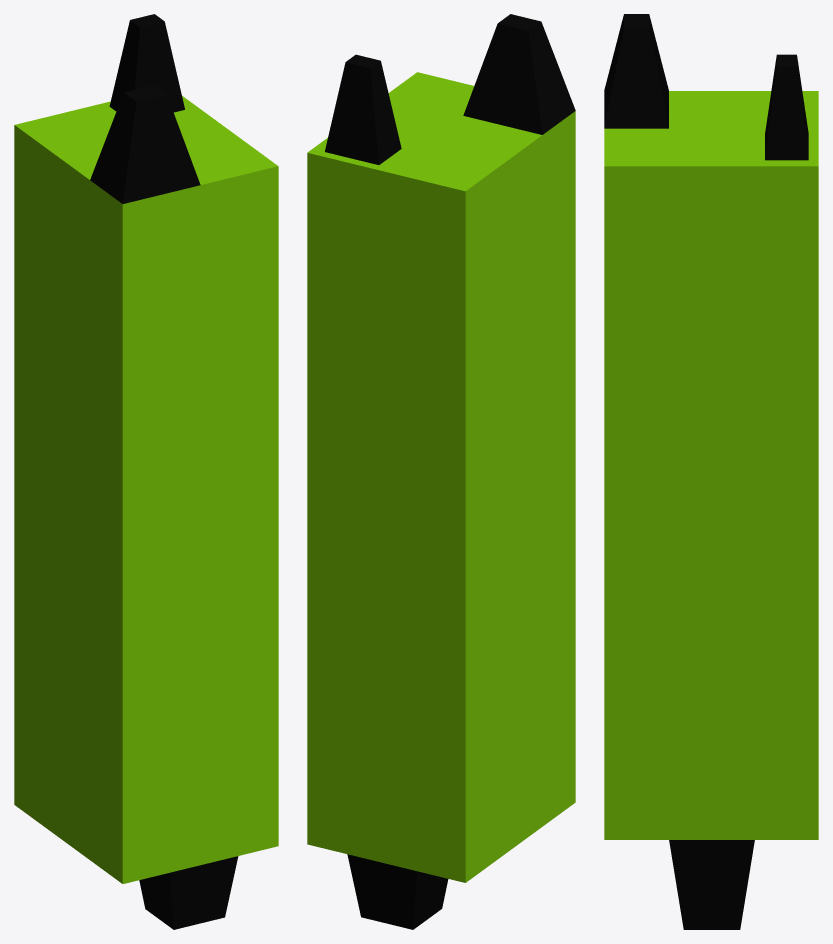
The model's file is Fusible_1.fbx.
3 renders of one model, left to right at view 1: azimuth 30°, elevation 25°; view 2: azimuth 150°, elevation 25°; view 3: azimuth 270°, elevation 25°, orthographic. The views are drawn at different scales.
Parts seen in each view (by area): view 1: Fusible; view 2: Fusible; view 3: Fusible.
Boxes of the visible parts, left/top/right/bottom form: Fusible: left=14, top=14, right=278, bottom=929; Fusible: left=307, top=14, right=575, bottom=929; Fusible: left=604, top=14, right=818, bottom=929.
Bounding box in the file's own units: 47.93 × 255 × 57.74.
